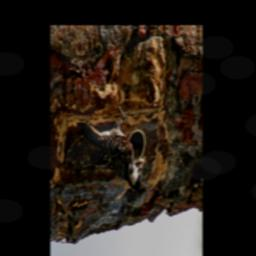Woodpecker: (76, 104, 144, 191)
